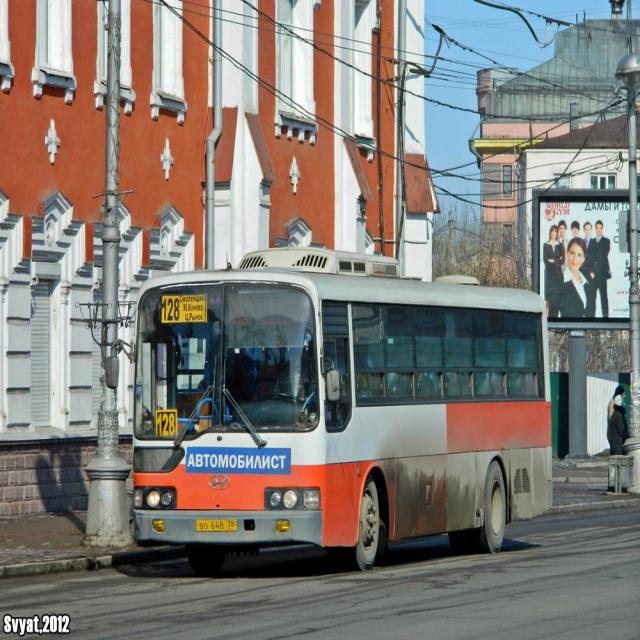number-of-bus: (157, 413, 177, 438), (163, 297, 181, 324)
